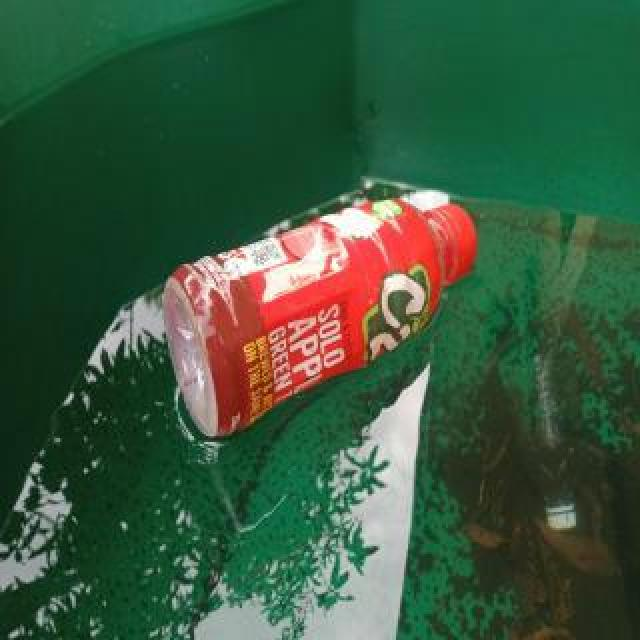bottle: (160, 194, 478, 442)
